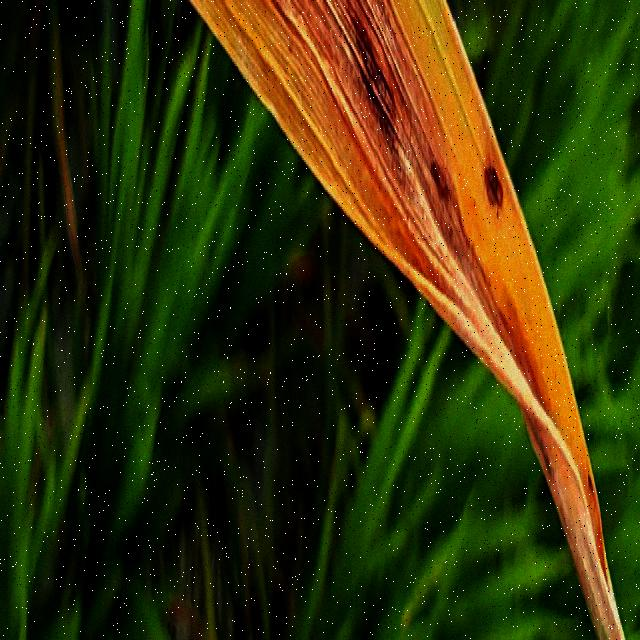LEAF BLAST: (354, 28, 395, 147), (485, 166, 503, 211), (431, 162, 448, 201), (588, 476, 595, 497)
